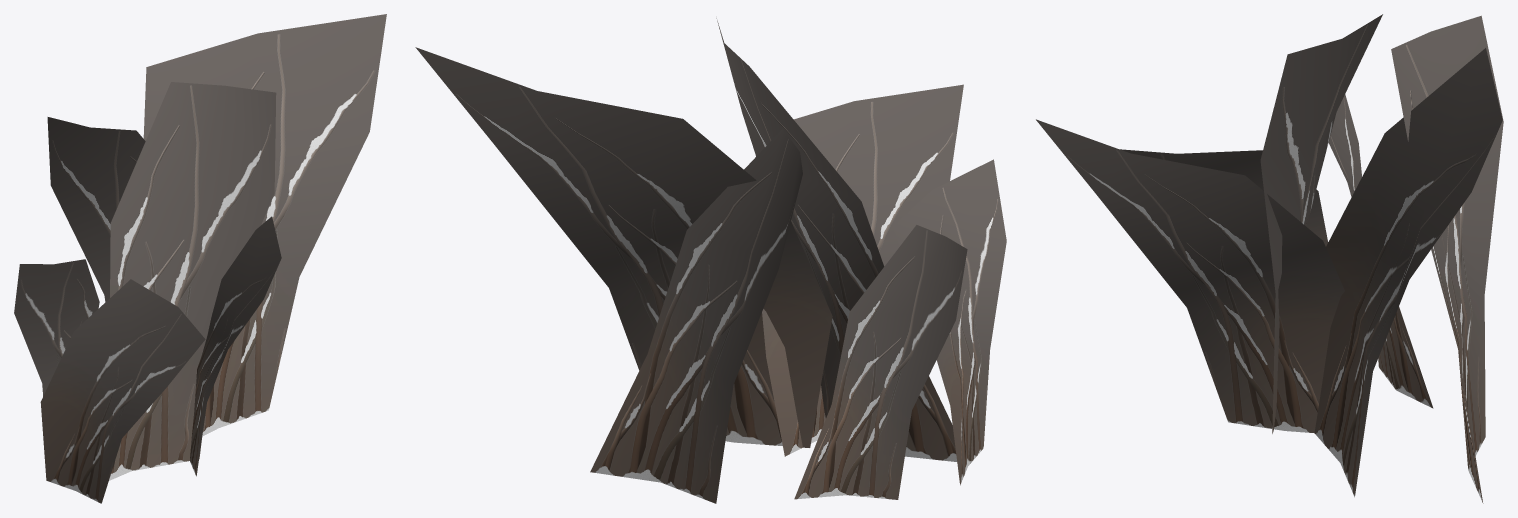
Rendered from Grass_A_Group_01.FBX.
The picture shows the model from 3 angles, left to right: view 1: azimuth 30°, elevation 25°; view 2: azimuth 150°, elevation 25°; view 3: azimuth 270°, elevation 25°; orthographic projection. The views are drawn at different scales.
Visible parts, largest first — view 1: Grass_A_Group_01; view 2: Grass_A_Group_01; view 3: Grass_A_Group_01.
Part boxes in pixels (box(x1,y1,x2,y2)): Grass_A_Group_01: box(14, 14, 386, 503); Grass_A_Group_01: box(415, 18, 1006, 503); Grass_A_Group_01: box(1036, 14, 1503, 503).
Bounding box in the file's own units: 87.79 × 68.38 × 67.3.
